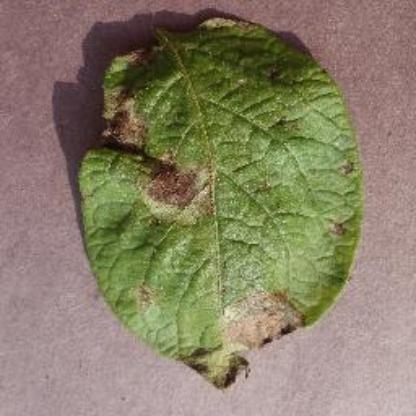Late-Blight: (62, 23, 384, 368)
